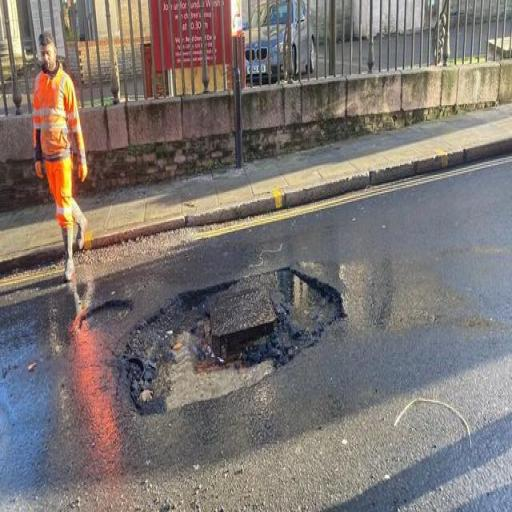Concentric_Crack: (122, 267, 342, 414)
